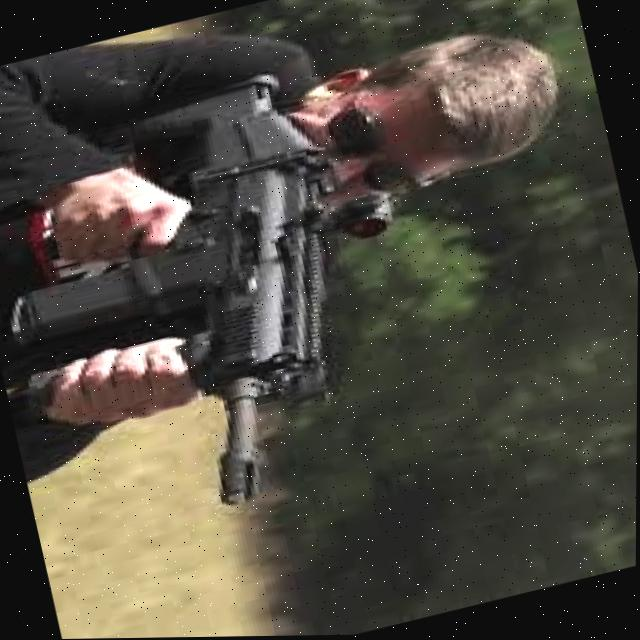firearm: (0, 48, 450, 550)
